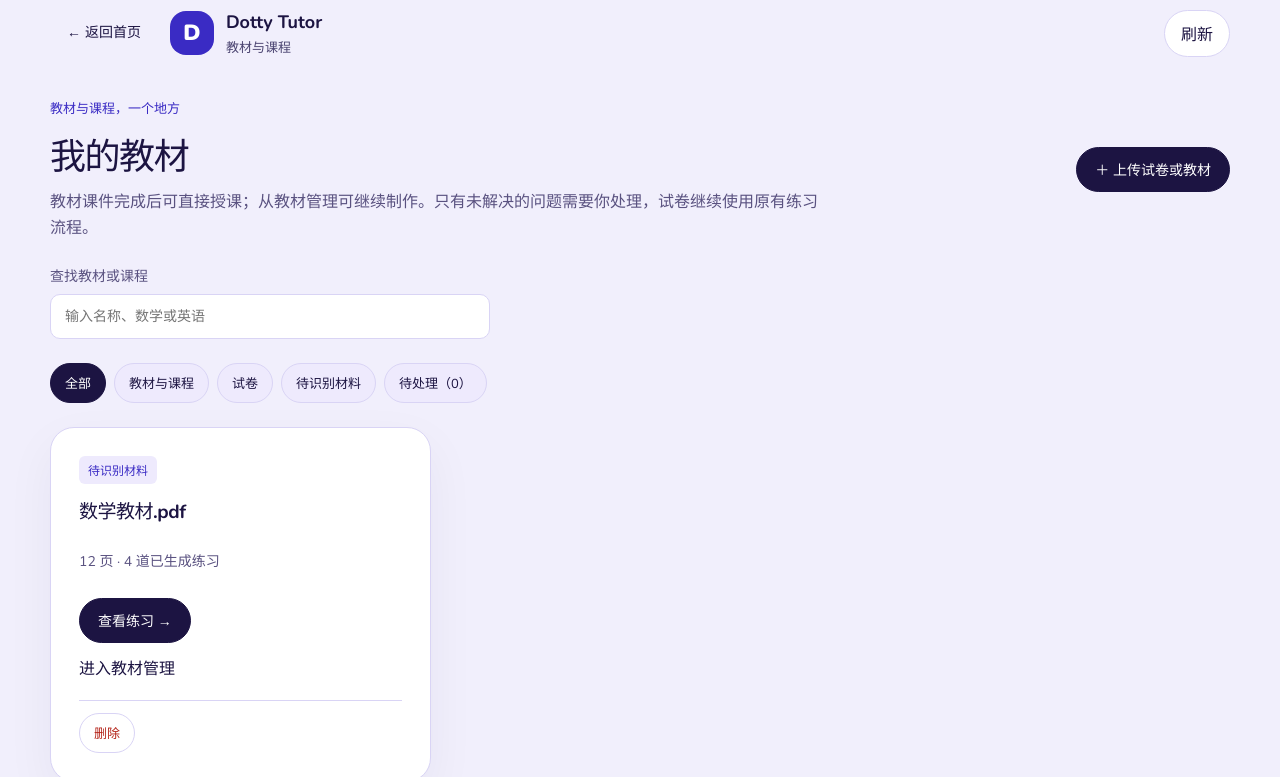
Test case: user Given eighteen optional source evaluation cases When opening tasks Then no production work is required and source checks remain optional
This screenshot has width=1280, height=777.
Click the button "待处理（0）": (436, 383) [384,363,487,403]
(page scrolled)
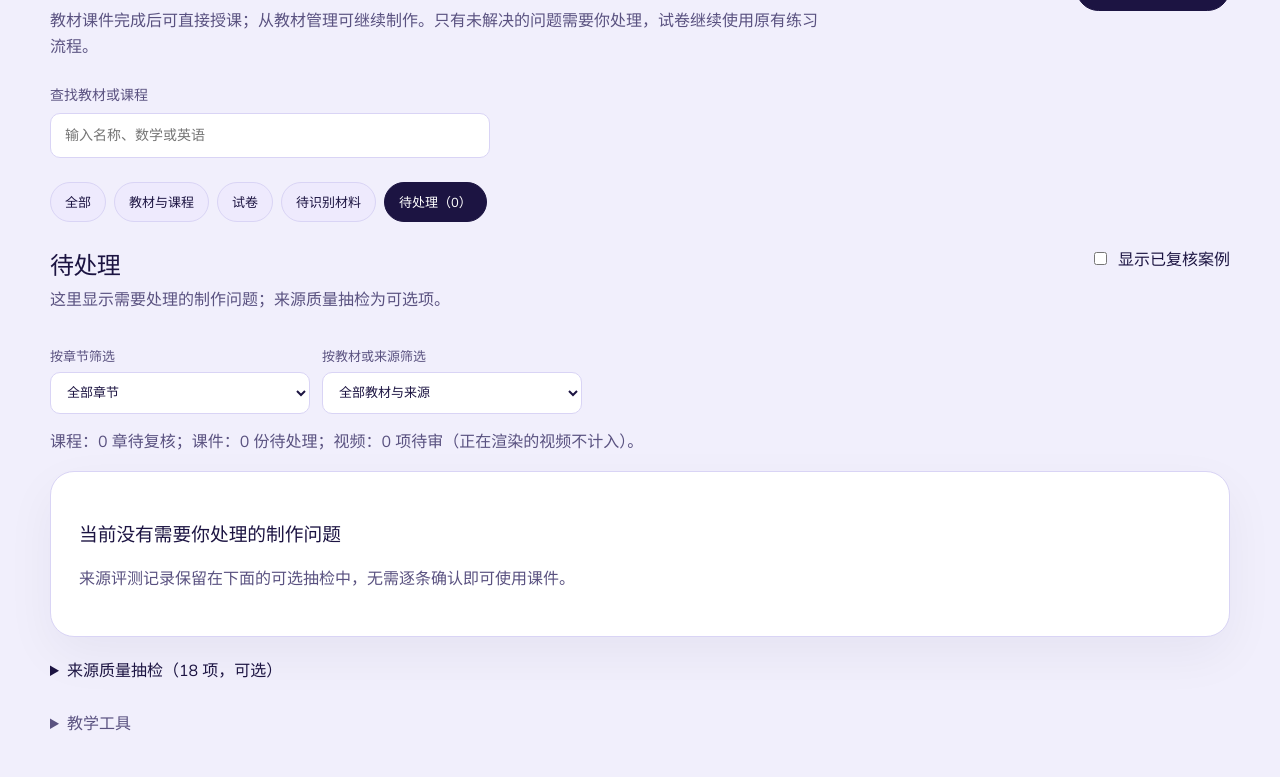
Expected: the heading "当前没有需要你处理的制作问题" is shown, [79,522,341,548]
Click the heading "来源质量抽检（18 项，可选）": (175, 671) [67,660,282,682]
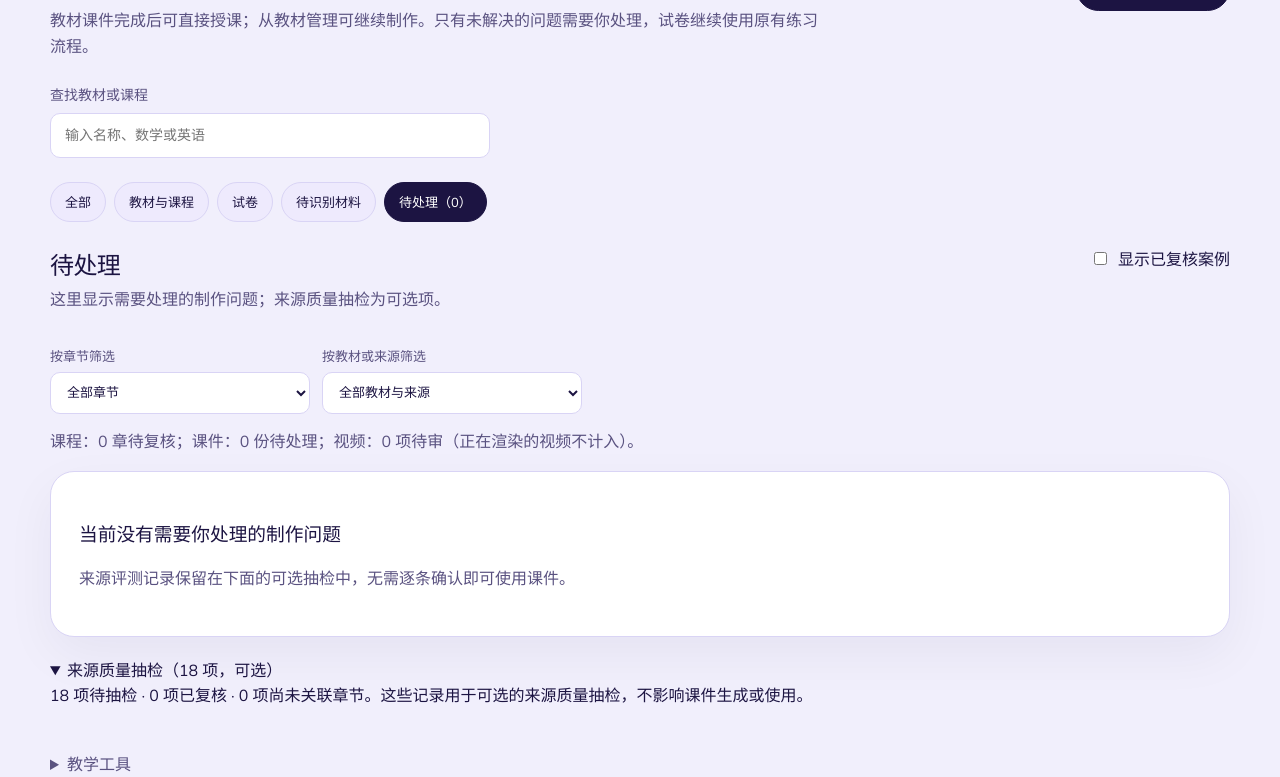
Expected: the text "18 项待抽检 · 0 项已复核 · 0 项尚未关联章节。这些记录用于可选的来源质量抽检，不影响课件生成或使用。" is shown, [50,685,813,707]
